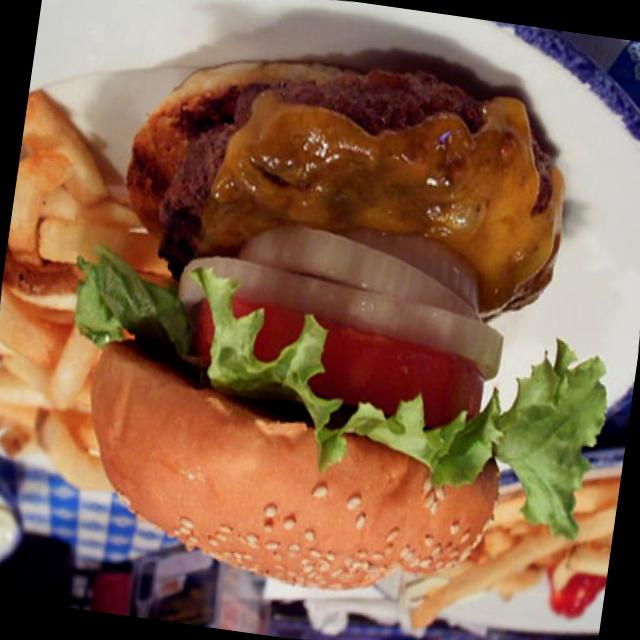Hamburger: (35, 28, 603, 640)
